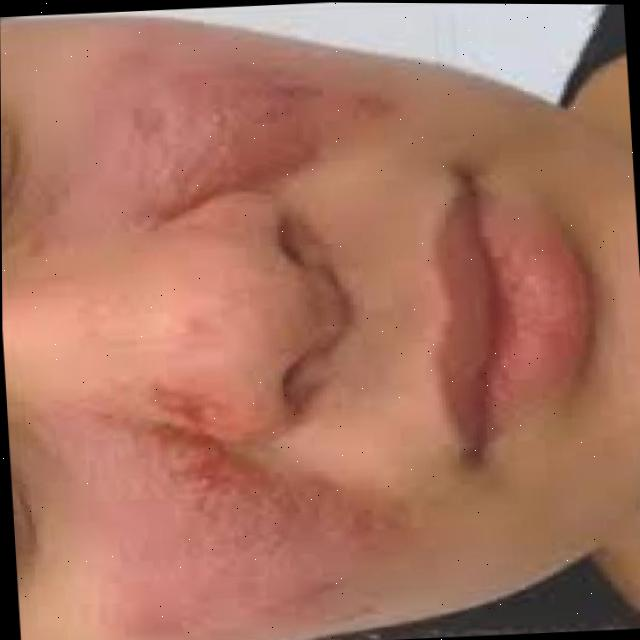Rosacea: (84, 398, 429, 640), (95, 25, 405, 227), (141, 235, 280, 433)
